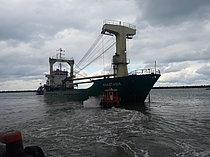Ship: (42, 17, 165, 114)
